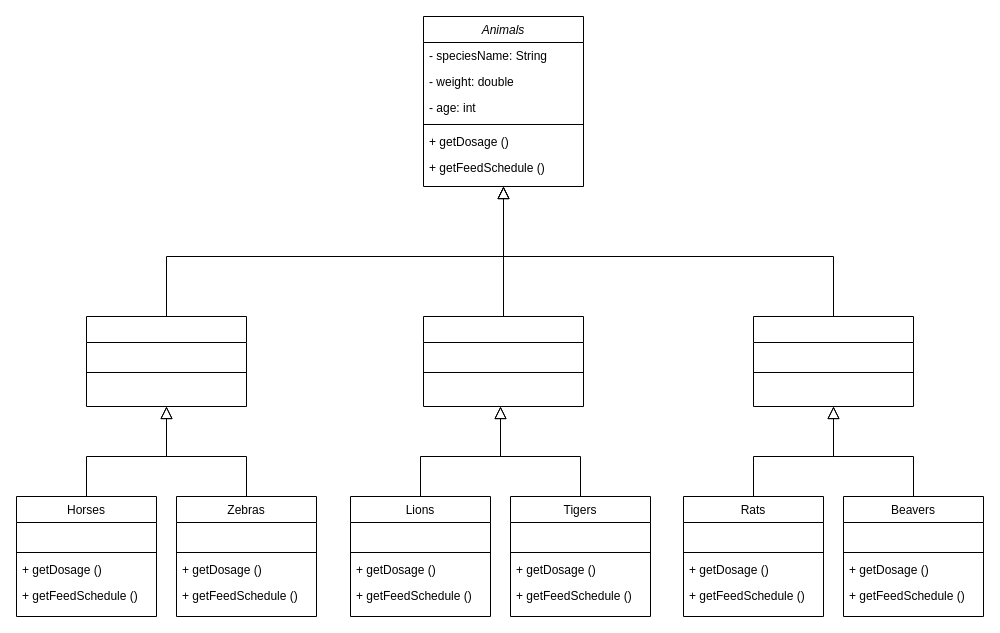
This 1000x633 diagram has some shape labels left out. The shapes that lost their labels are listed below. From the top down, each one's centre as x and y in pixels, then its label:
At point (166, 361): "Equidaes".
At point (503, 361): "Felines".
At point (833, 361): "Rodents".
